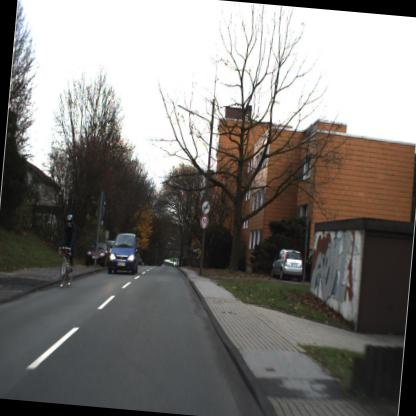other: (200, 199, 212, 215)
prohibitory: (198, 214, 210, 232)
